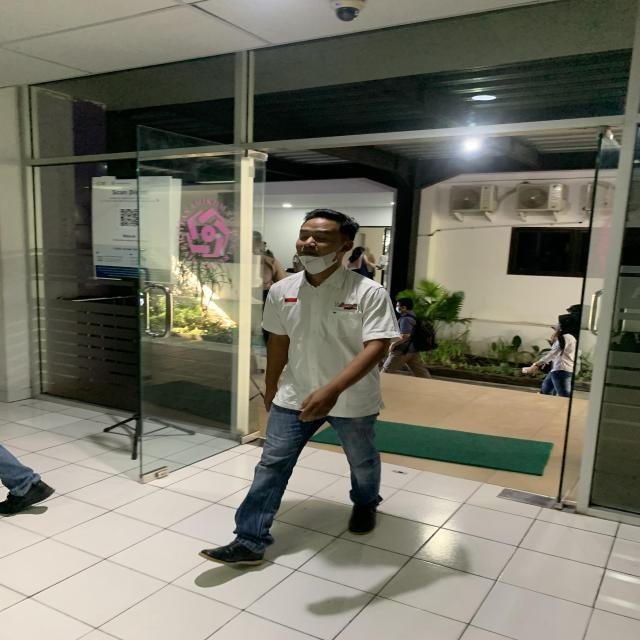hairnet: (290, 208, 357, 278)
